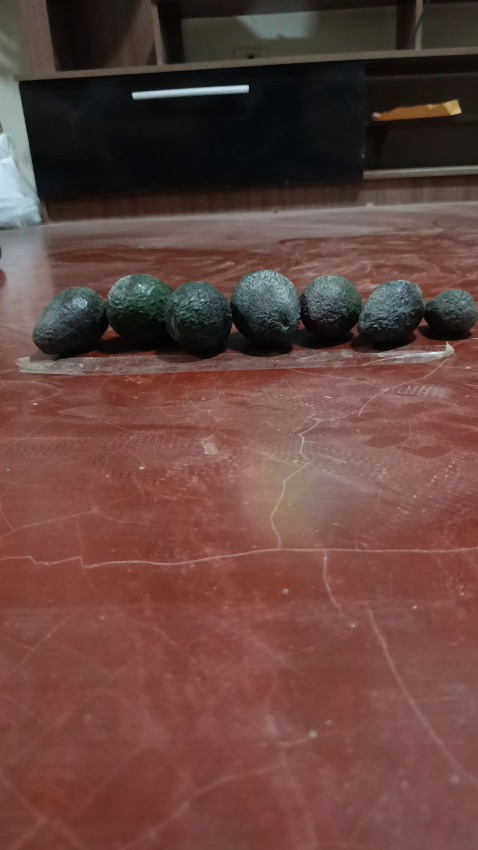Primera: (230, 269, 301, 347), (104, 271, 175, 344), (163, 281, 230, 353)
Segunda: (31, 286, 107, 355), (357, 279, 425, 346), (299, 274, 362, 340)
Tercera: (422, 287, 477, 339)
